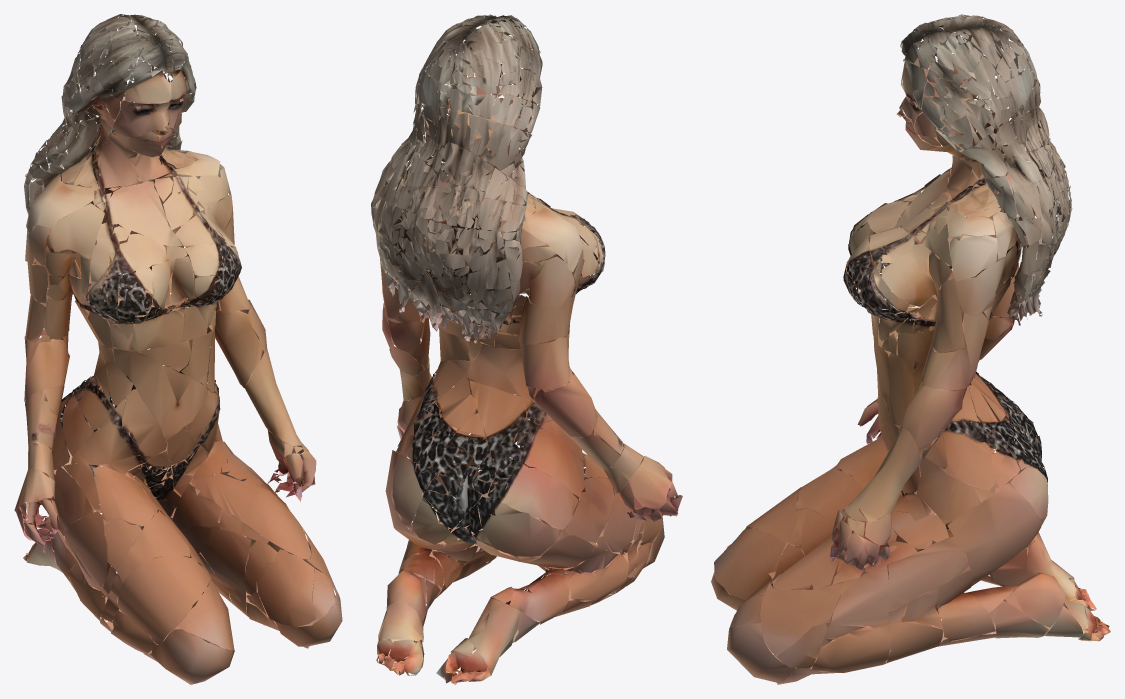
Rendered from beach_kneel.glb.
3 views of the same model, side by side, from view 1: azimuth 30°, elevation 25°; view 2: azimuth 150°, elevation 25°; view 3: azimuth 270°, elevation 25° (orthographic). The views are drawn at different scales.
Visible parts, largest first — view 1: beach_kneel; view 2: beach_kneel; view 3: beach_kneel.
Part boxes in pixels (x1=…): beach_kneel: x1=14, y1=14, x2=342, y2=684; beach_kneel: x1=371, y1=14, x2=682, y2=684; beach_kneel: x1=711, y1=14, x2=1110, y2=684.
Bounding box in the file's own units: 0.5708 × 1.15 × 0.6707.
Materials: 1 (1 with a texture image).
